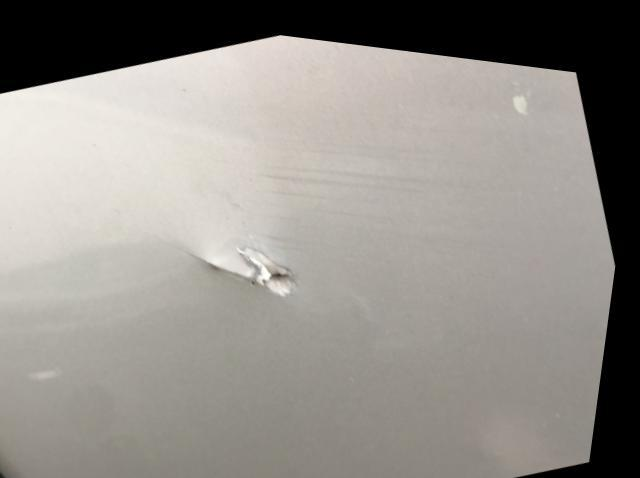scratch: (254, 138, 457, 251), (213, 235, 302, 289)
